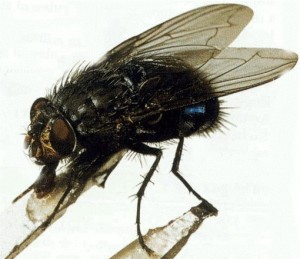green bottles fly: (4, 3, 300, 217)
